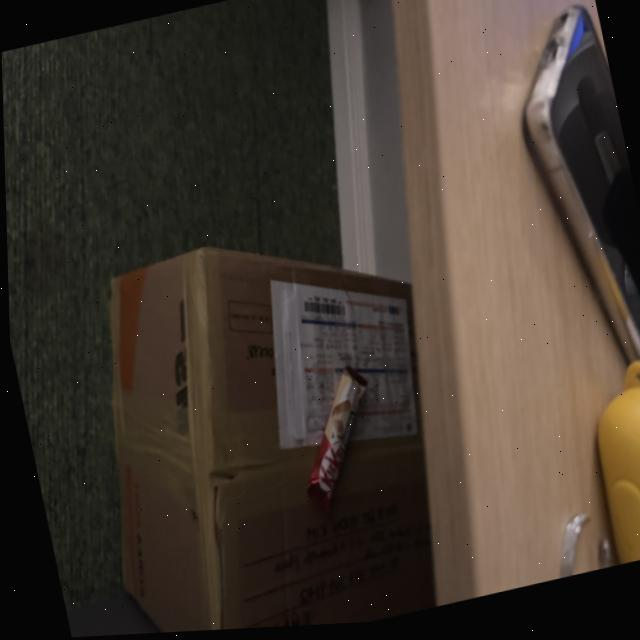chocolate: (274, 359, 389, 512)
